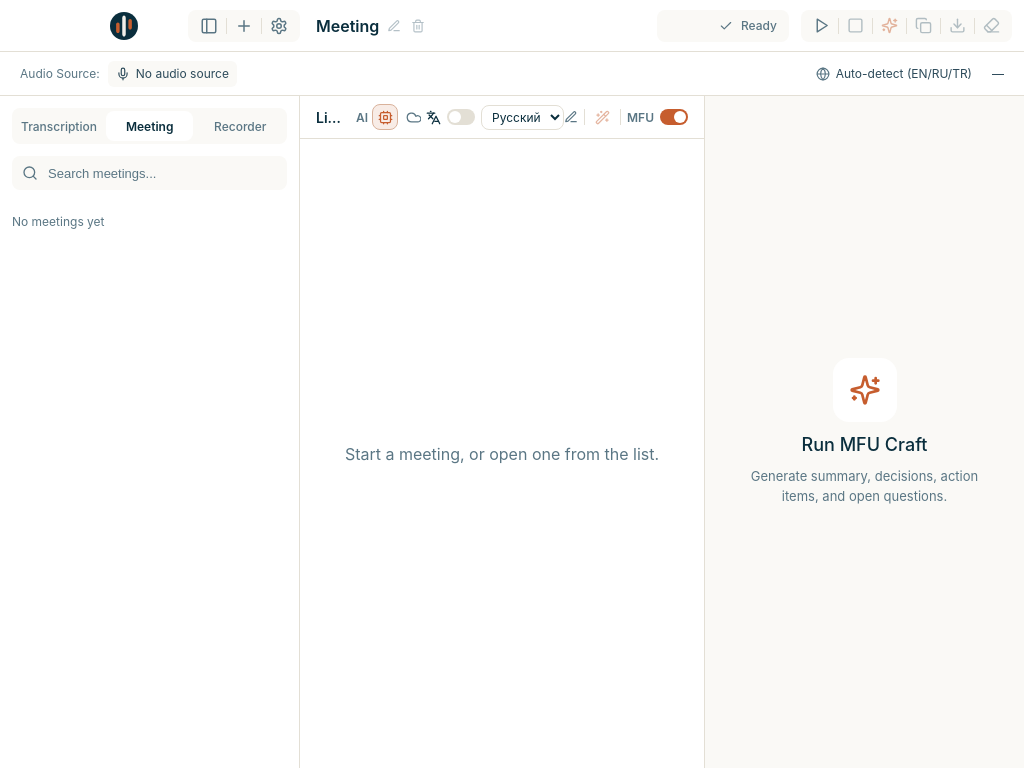
Test: StreamingView — events › reports system-audio-only sources
What coordinates should you click on to do the following:
click the button named "Start"
I would click on:
 (822, 26)
Its box is [809, 13, 834, 38].
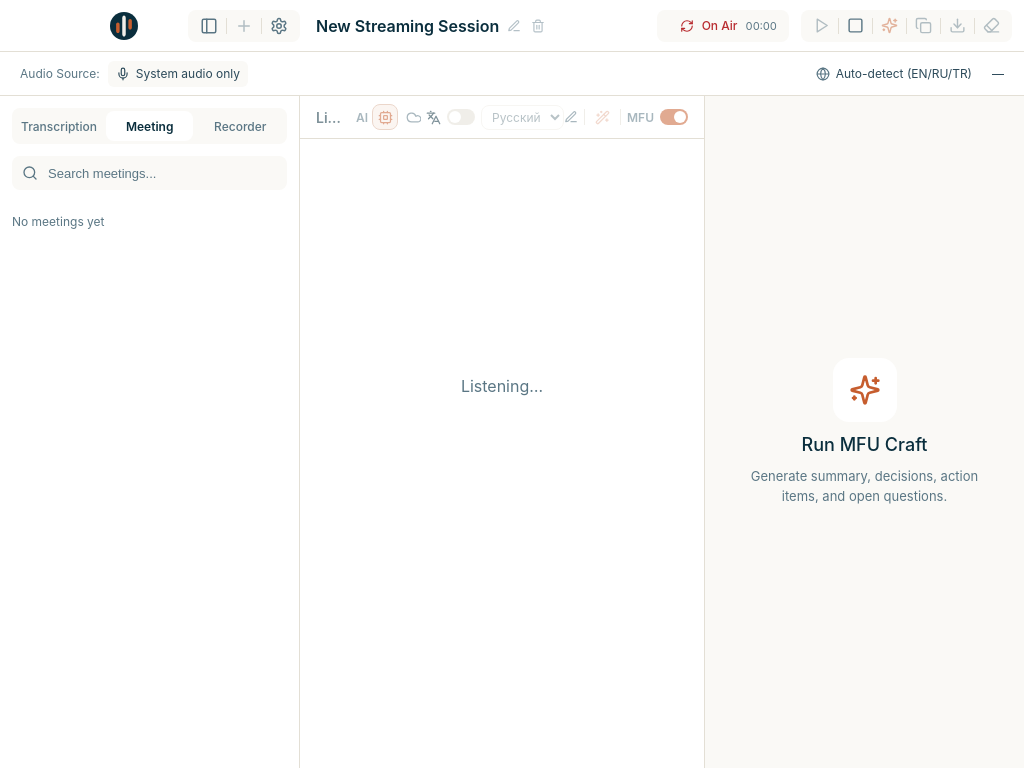
Now the text "System audio only" is shown, box [108, 60, 248, 86]
